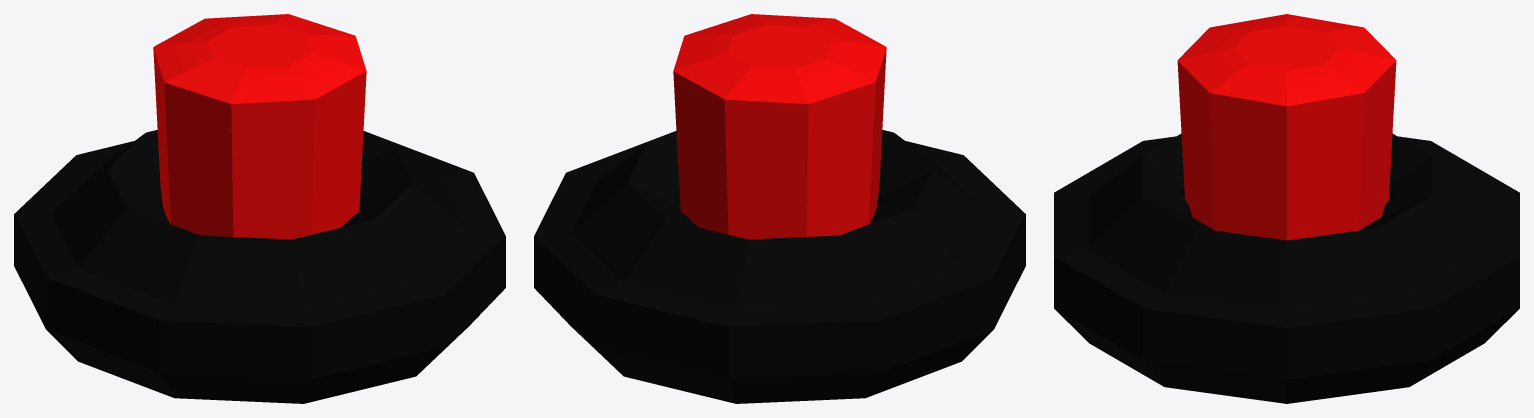
File: PRESS_this.fbx
3 renders of one model, left to right at view 1: azimuth 30°, elevation 25°; view 2: azimuth 150°, elevation 25°; view 3: azimuth 270°, elevation 25°, orthographic.
Parts seen in each view (by area): view 1: pTorus1, polySurface4; view 2: pTorus1, polySurface4; view 3: pTorus1, polySurface4.
Boxes of the visible parts, <box> form: pTorus1: <box>14,130,505,403</box>; polySurface4: <box>153,14,366,239</box>; pTorus1: <box>534,130,1025,403</box>; polySurface4: <box>673,14,886,239</box>; pTorus1: <box>1054,133,1519,403</box>; polySurface4: <box>1177,14,1396,240</box>.
Size of the model in its own units: 2.94 by 1.83 by 2.8.
